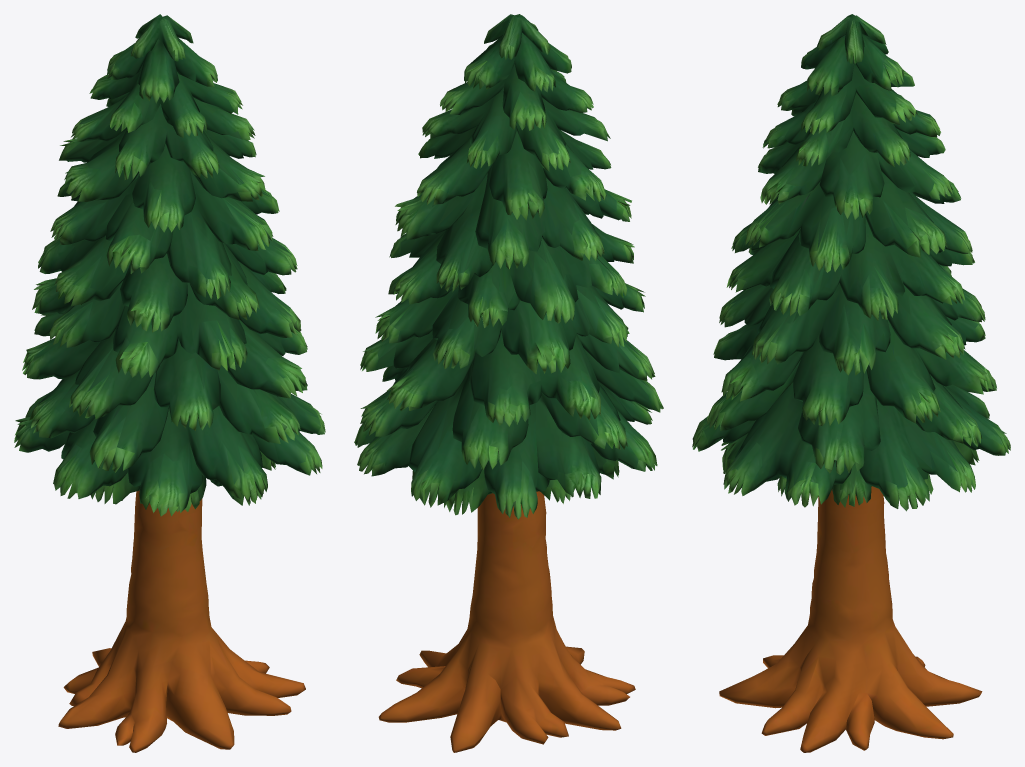
The model's file is tree_pine.glb.
3 renders of one model, left to right at view 1: azimuth 30°, elevation 25°; view 2: azimuth 150°, elevation 25°; view 3: azimuth 270°, elevation 25°, orthographic.
Visible parts, largest first — view 1: tripo_node_f86cd664-3542-4aa2-ba8d-173a7cef4448; view 2: tripo_node_f86cd664-3542-4aa2-ba8d-173a7cef4448; view 3: tripo_node_f86cd664-3542-4aa2-ba8d-173a7cef4448.
Part boxes in pixels (left/top/right/bottom): tripo_node_f86cd664-3542-4aa2-ba8d-173a7cef4448: left=14, top=14, right=325, bottom=752; tripo_node_f86cd664-3542-4aa2-ba8d-173a7cef4448: left=354, top=14, right=663, bottom=752; tripo_node_f86cd664-3542-4aa2-ba8d-173a7cef4448: left=692, top=14, right=1010, bottom=752.
Bounding box in the file's own units: 2.17 × 5.51 × 2.32.
1 material, 1 textured.
